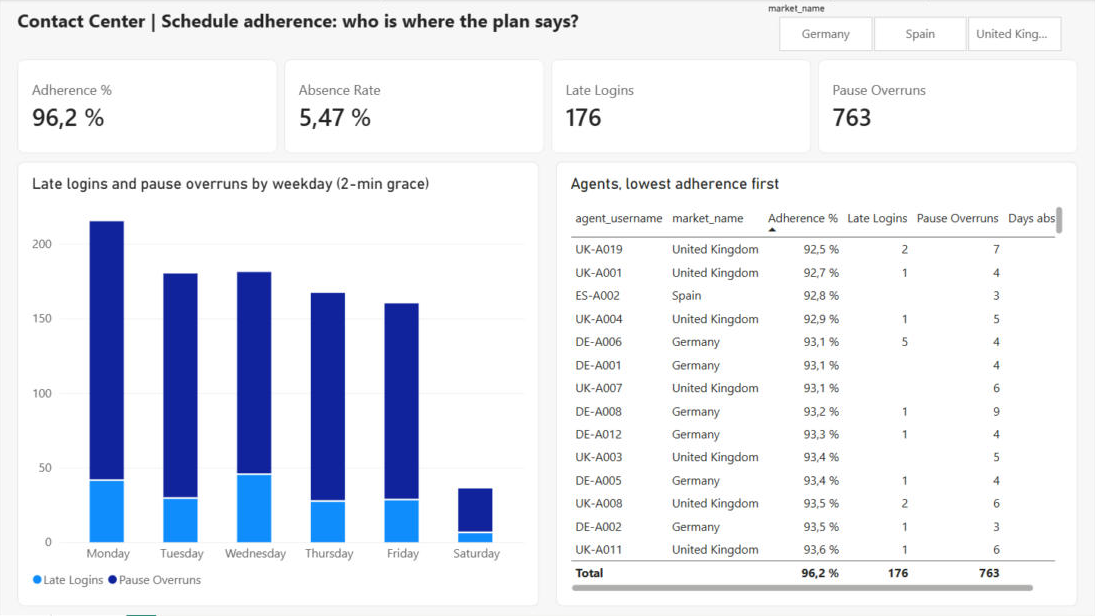

What the dashboard file says about the page in this screenshot:
{"tool":"powerbi","page":{"name":"Adherence","canvas":[1920,1080],"ordinal":1},"visuals":[{"type":"textbox","box":[20,10,860,50],"z":0},{"type":"cardVisual","fields":{"Data":["marts fct_agent_day.Adherence %","marts fct_agent_day.Absence Rate","marts fct_agent_day.Late Logins","marts fct_agent_day.Pause Overruns"]},"box":[20,70,1240,110],"z":1},{"type":"slicer","fields":{"Values":["marts dim_market.market_name"]},"box":[890,4,370,58],"z":2},{"type":"columnChart","title":"Late logins and pause overruns by weekday (2-min grace)\t","fields":{"Category":["marts dim_date.day_name"],"Y":["marts fct_agent_day.Late Logins","marts fct_agent_day.Pause Overruns"]},"box":[20,190,610,520],"z":3},{"type":"tableEx","title":"Agents, lowest adherence first\t","fields":{"Values":["marts dim_agent.agent_username","marts dim_market.market_name","marts fct_agent_day.Adherence %","marts fct_agent_day.Late Logins","marts fct_agent_day.Pause Overruns","Sum(marts dim_agent.days_absent)"]},"box":[650,190,610,520],"z":4}]}

Visuals, with their boxes in screenshot pixels (x1, y1, x2, y2), scaled from the page's 1920x1080 canvas onto the 1095x616 screenshot:
textbox: x1=11 y1=6 x2=502 y2=34
cardVisual - marts fct_agent_day.Adherence % x marts fct_agent_day.Absence Rate: x1=11 y1=40 x2=719 y2=103
slicer - marts dim_market.market_name: x1=508 y1=2 x2=719 y2=35
"Late logins and pause overruns by weekday (2-min grace)	" columnChart: x1=11 y1=108 x2=359 y2=405
"Agents, lowest adherence first	" tableEx: x1=371 y1=108 x2=719 y2=405
